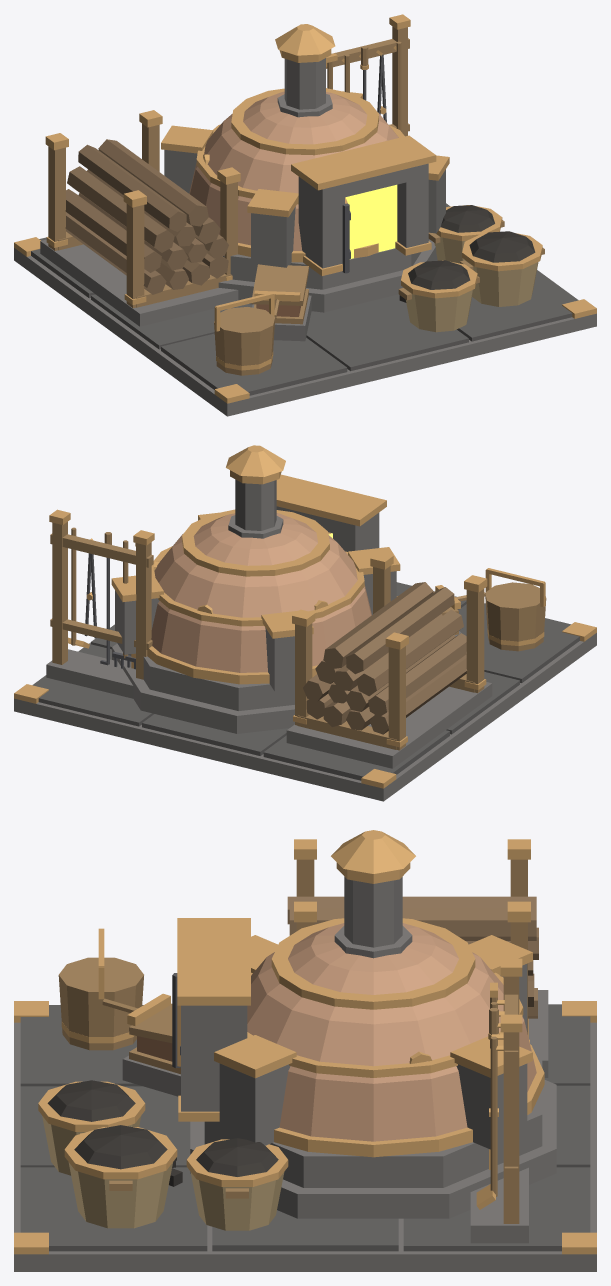
The model's file is furnace-t2.glb.
3 renders of one model, top to bottom at view 1: azimuth 30°, elevation 25°; view 2: azimuth 150°, elevation 25°; view 3: azimuth 270°, elevation 25°, orthographic. The views are drawn at different scales.
Parts seen in each view (by area): view 1: kiln, floor, log_stack, kiln_dome, basket_1, basket_3, quench_bucket, kiln_bands, bellows, basket_2, tool_rack, kiln_door (+1 smaller); view 2: log_stack, kiln, floor, kiln_dome, tool_rack, kiln_bands, quench_bucket, tool_hoe, tool_tongs, tool_poker; view 3: floor, kiln, kiln_dome, log_stack, basket_1, kiln_bands, basket_2, tool_rack, quench_bucket, basket_3, bellows, tool_hoe (+1 smaller).
Part boxes in pixels (x1=…): kiln: x1=161, y1=24, x2=449, y2=312; floor: x1=14, y1=203, x2=596, y2=416; log_stack: x1=40, y1=110, x2=240, y2=326; kiln_dome: x1=189, y1=91, x2=398, y2=250; basket_1: x1=460, y1=231, x2=544, y2=306; basket_3: x1=398, y1=260, x2=479, y2=332; quench_bucket: x1=214, y1=292, x2=275, y2=375; kiln_bands: x1=196, y1=88, x2=404, y2=204; bellows: x1=251, y1=264, x2=311, y2=341; basket_2: x1=428, y1=205, x2=504, y2=263; tool_rack: x1=326, y1=14, x2=410, y2=136; kiln_door: x1=342, y1=197, x2=350, y2=273; log_stack: x1=286, y1=552, x2=492, y2=768; kiln: x1=111, y1=445, x2=400, y2=733; floor: x1=14, y1=582, x2=596, y2=801; kiln_dome: x1=151, y1=513, x2=371, y2=672; tool_rack: x1=46, y1=509, x2=154, y2=698; kiln_bands: x1=151, y1=509, x2=364, y2=626; quench_bucket: x1=485, y1=568, x2=546, y2=651; tool_hoe: x1=68, y1=527, x2=89, y2=648; tool_tongs: x1=84, y1=553, x2=96, y2=638; tool_poker: x1=100, y1=532, x2=111, y2=665; floor: x1=14, y1=1001, x2=596, y2=1271; kiln: x1=177, y1=830, x2=556, y2=1218; kiln_dome: x1=247, y1=923, x2=536, y2=1141; log_stack: x1=287, y1=839, x2=548, y2=1077; basket_1: x1=64, y1=1125, x2=177, y2=1228; kiln_bands: x1=247, y1=918, x2=523, y2=1077; basket_2: x1=186, y1=1138, x2=288, y2=1230; tool_rack: x1=470, y1=958, x2=528, y2=1243; quench_bucket: x1=58, y1=928, x2=143, y2=1050; basket_3: x1=38, y1=1080, x2=145, y2=1175; bellows: x1=102, y1=993, x2=180, y2=1096; tool_hoe: x1=476, y1=1036, x2=497, y2=1209.
Size of what is drawn, in the model's own units: 3 by 1.88 by 3.
